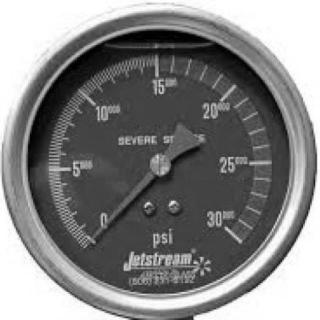gauge: (0, 0, 320, 320), (74, 211, 116, 257), (203, 210, 243, 250), (148, 151, 175, 179), (83, 227, 101, 250)
